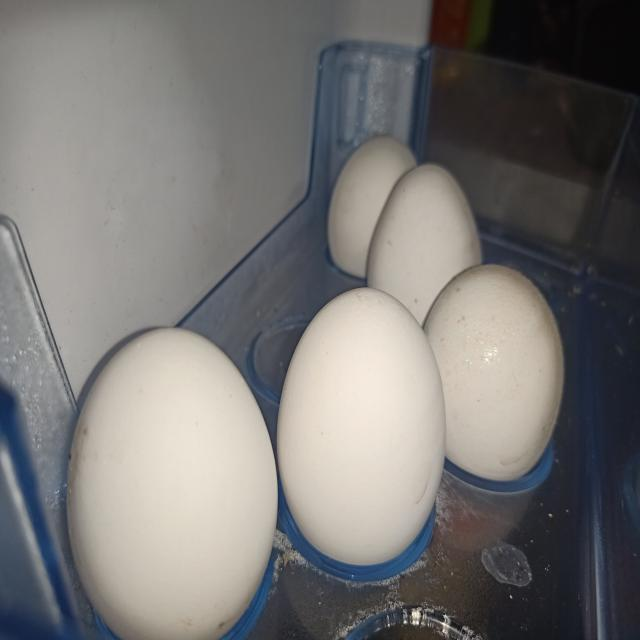Egg: (67, 328, 277, 640), (277, 288, 446, 566), (425, 264, 565, 482), (367, 163, 482, 325), (328, 135, 417, 278)
